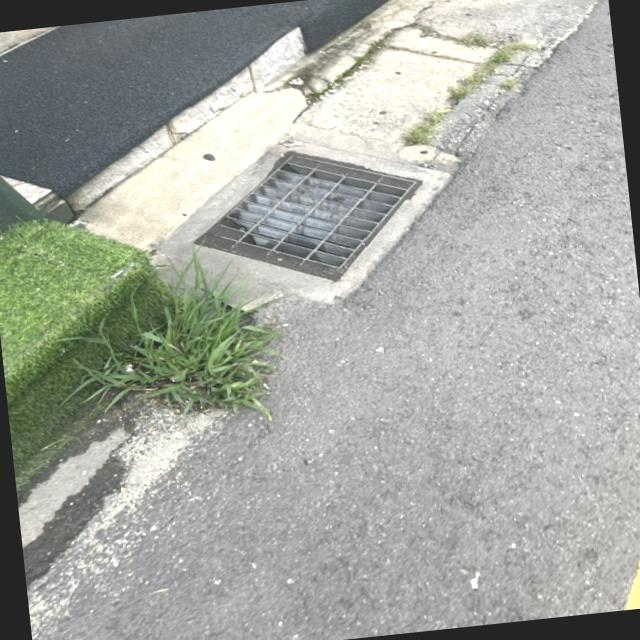drain_area: (225, 165, 404, 266)
drain_full: (199, 155, 414, 279)
